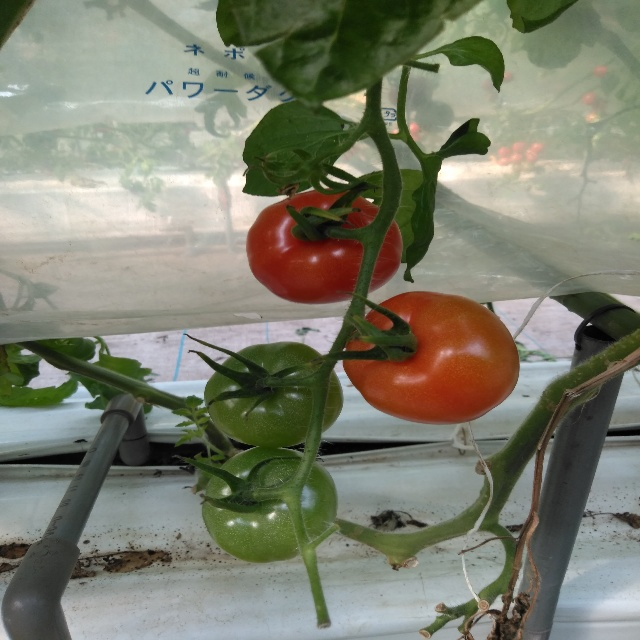l_fully_ripened: (245, 188, 403, 304)
l_green: (201, 446, 338, 563), (203, 341, 345, 448)
l_half_ripened: (343, 290, 520, 425)
